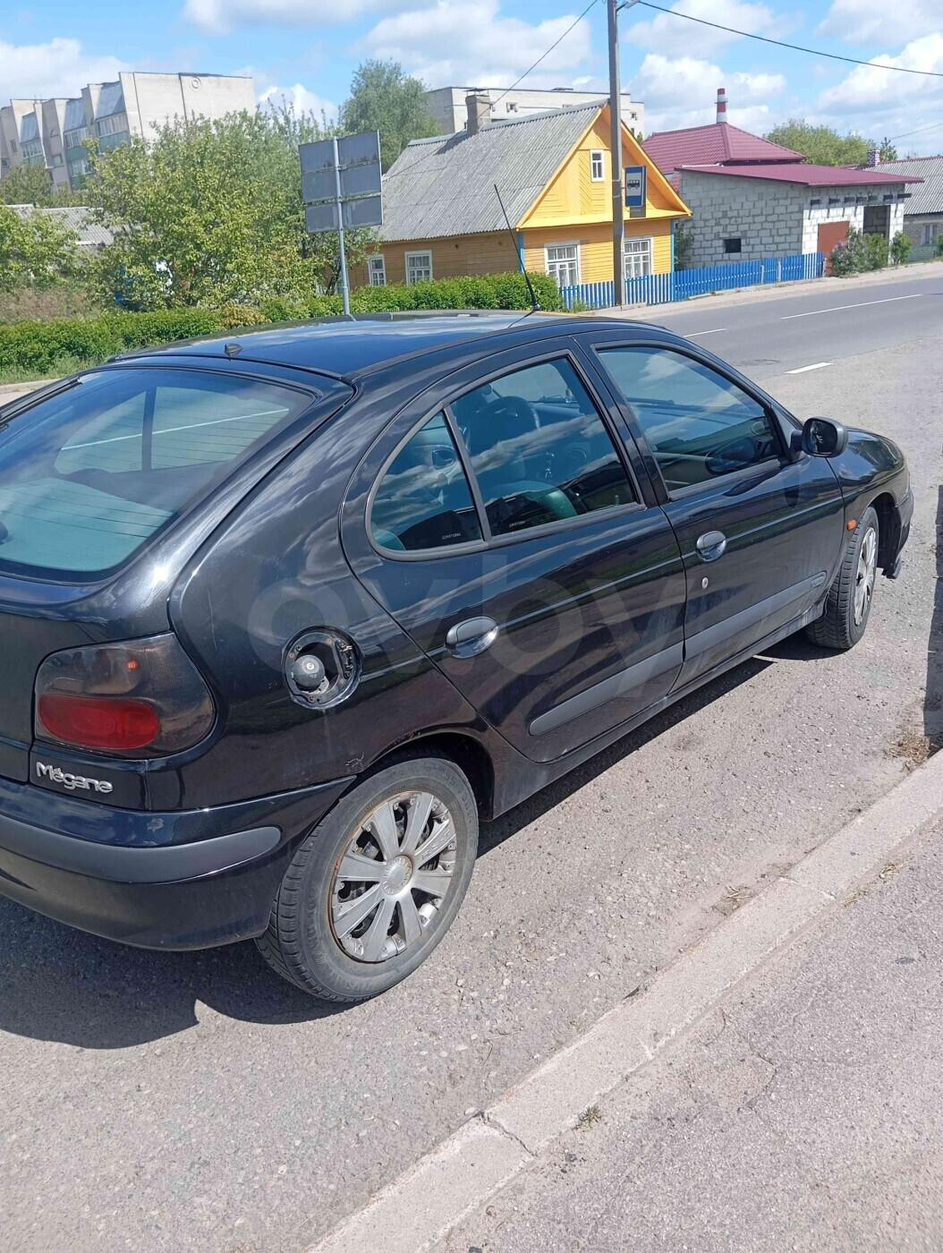Megane_1995-1999: (0, 313, 934, 1053)
